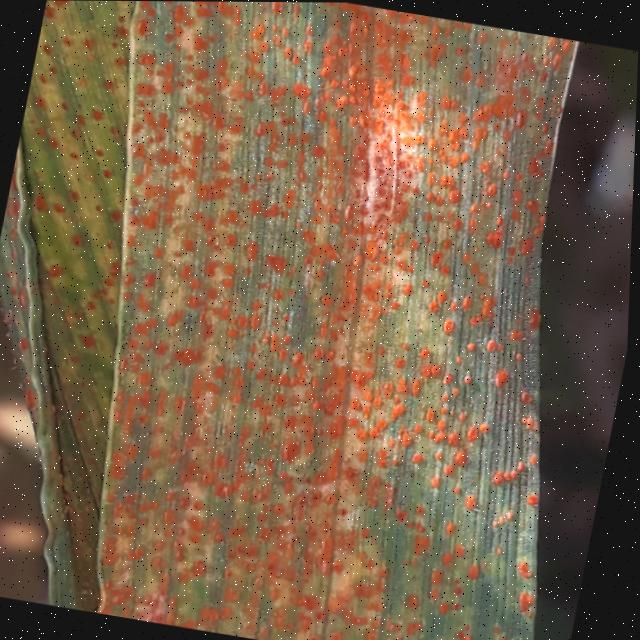orang_rust: (11, 0, 640, 640), (0, 0, 209, 611)
